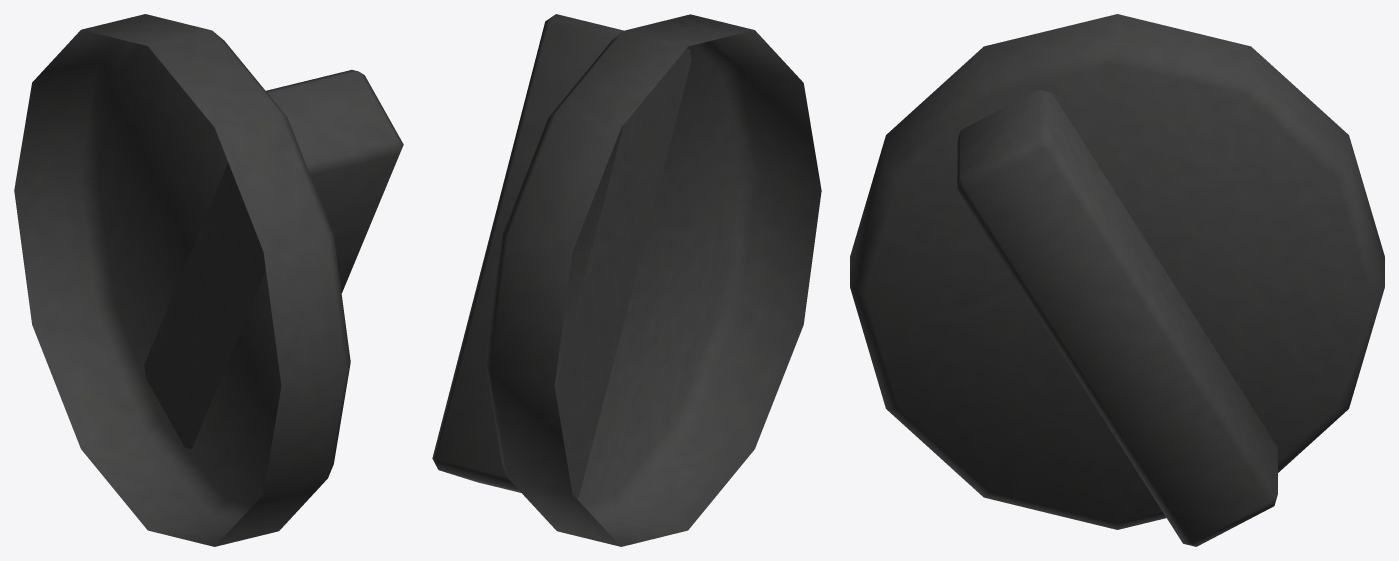
The model's file is SM_恒温干燥箱开关.FBX.
3 renders of one model, left to right at view 1: azimuth 30°, elevation 25°; view 2: azimuth 150°, elevation 25°; view 3: azimuth 270°, elevation 25°, orthographic.
Parts seen in each view (by area): view 1: SM_恒温干燥箱开关; view 2: SM_恒温干燥箱开关; view 3: SM_恒温干燥箱开关.
Boxes of the visible parts, <box> form: SM_恒温干燥箱开关: <box>14,14,403,546</box>; SM_恒温干燥箱开关: <box>432,14,821,546</box>; SM_恒温干燥箱开关: <box>850,14,1384,546</box>.
Bounding box in the file's own units: 34.82 × 89.57 × 89.57.
